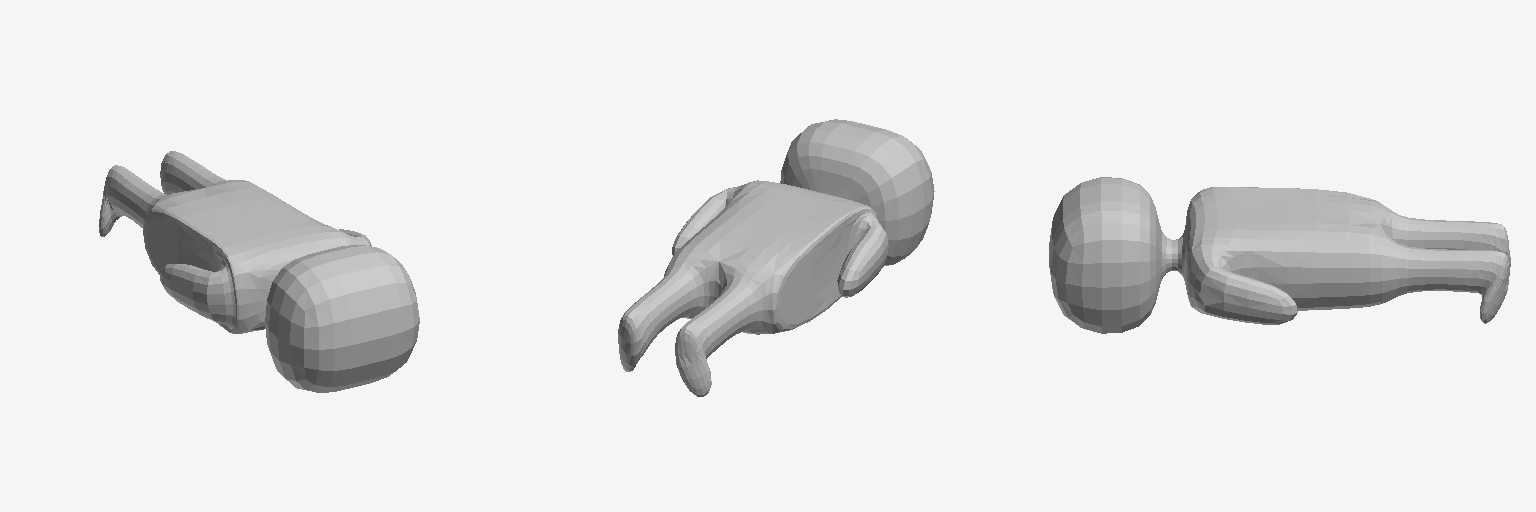
The model's file is antman_stand_7.obj.
The picture shows the model from 3 angles: view 1: azimuth 30°, elevation 25°; view 2: azimuth 150°, elevation 25°; view 3: azimuth 270°, elevation 25°; orthographic projection.
Parts seen in each view (by area): view 1: Cube; view 2: Cube; view 3: Cube.
Boxes of the visible parts, x1=… form: Cube: x1=99, y1=151, x2=419, y2=392; Cube: x1=618, y1=119, x2=934, y2=396; Cube: x1=1049, y1=177, x2=1510, y2=333.
Bounding box in the file's own units: 0.8927 × 0.5834 × 1.93.